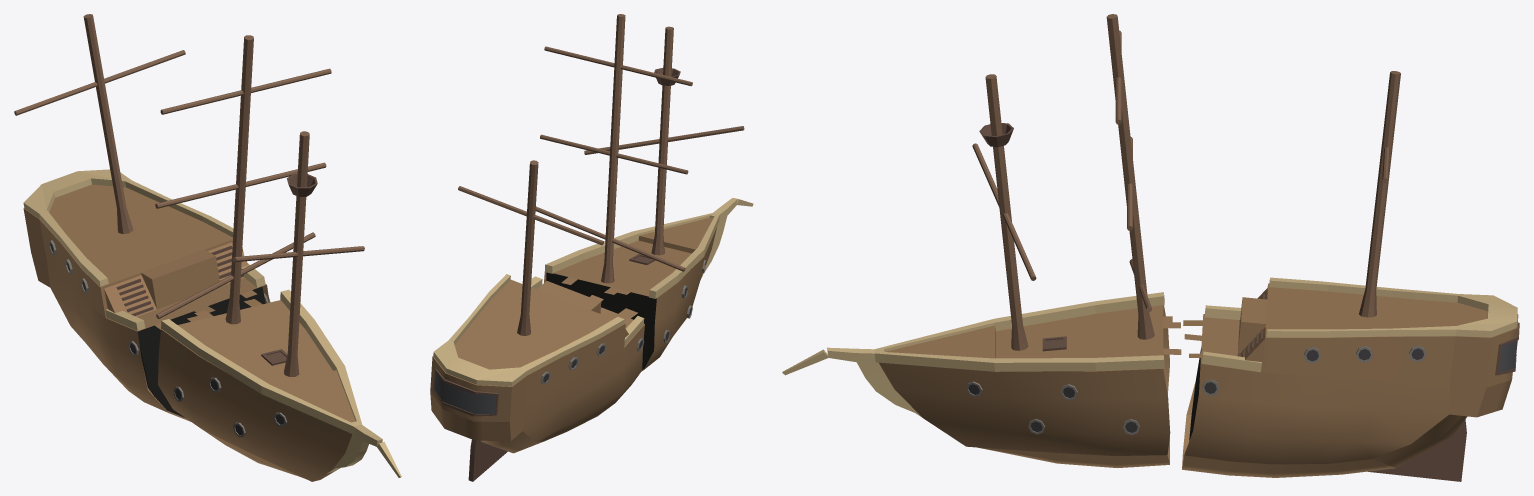
File: atoll_shipWreck.fbx
The picture shows the model from 3 angles, left to right: view 1: azimuth 30°, elevation 25°; view 2: azimuth 150°, elevation 25°; view 3: azimuth 270°, elevation 25°; orthographic projection. The views are drawn at different scales.
Visible parts, largest first — view 1: Hull (×2), Rim (×2), Mast2, StairRoom, Mast1, Mast3, Void, Ramp, Mast6, Mast7, polySurface2, Mast4 (+4 smaller); view 2: Hull (×2), Rim (×2), Mast2, Void1, Mast1, Mast3, RearWindow, Rudder, StairRoom, Mast5, Mast7, Mast6 (+4 smaller); view 3: Hull (×2), Rim (×2), Mast2, Mast1, Mast3, Rudder, polySurface2, StairRoom, Mast8.
Boxes of the visible parts, <box> form: Hull (×2): <box>23,184,355,481</box>; Rim (×2): <box>23,169,362,434</box>; Mast2: <box>225,35,253,324</box>; StairRoom: <box>141,249,219,309</box>; Mast1: <box>284,131,309,376</box>; Mast3: <box>83,14,133,234</box>; Void: <box>138,286,265,417</box>; Ramp: <box>104,242,248,316</box>; Mast6: <box>160,68,331,114</box>; Mast7: <box>14,50,185,115</box>; polySurface2: <box>326,425,382,473</box>; Mast4: <box>155,162,326,208</box>; Hull (×2): <box>430,217,716,453</box>; Rim (×2): <box>433,213,719,386</box>; Mast2: <box>601,14,625,283</box>; Void1: <box>546,272,656,369</box>; Mast1: <box>651,26,673,255</box>; Mast3: <box>517,160,538,336</box>; RearWindow: <box>434,372,496,414</box>; Rudder: <box>468,439,507,481</box>; StairRoom: <box>537,281,601,313</box>; Mast5: <box>535,206,685,271</box>; Mast7: <box>458,186,603,245</box>; Mast6: <box>544,46,692,86</box>; Hull (×2): <box>879,283,1518,477</box>; Rim (×2): <box>874,277,1517,371</box>; Mast2: <box>1106,14,1154,339</box>; Mast1: <box>985,74,1028,350</box>; Mast3: <box>1359,71,1400,317</box>; Rudder: <box>1368,419,1466,481</box>; polySurface2: <box>827,347,922,417</box>; StairRoom: <box>1237,297,1267,355</box>; Mast8: <box>972,143,1036,280</box>.
Bounding box in the file's own units: 1872 × 3962 × 5772.
